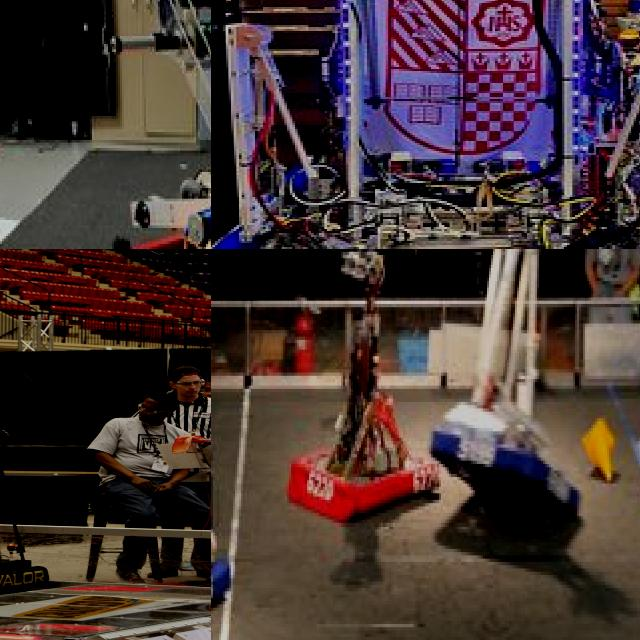FRC-Robots: (211, 0, 640, 249), (22, 0, 211, 249), (441, 249, 561, 571), (290, 262, 434, 522), (211, 315, 252, 639)
